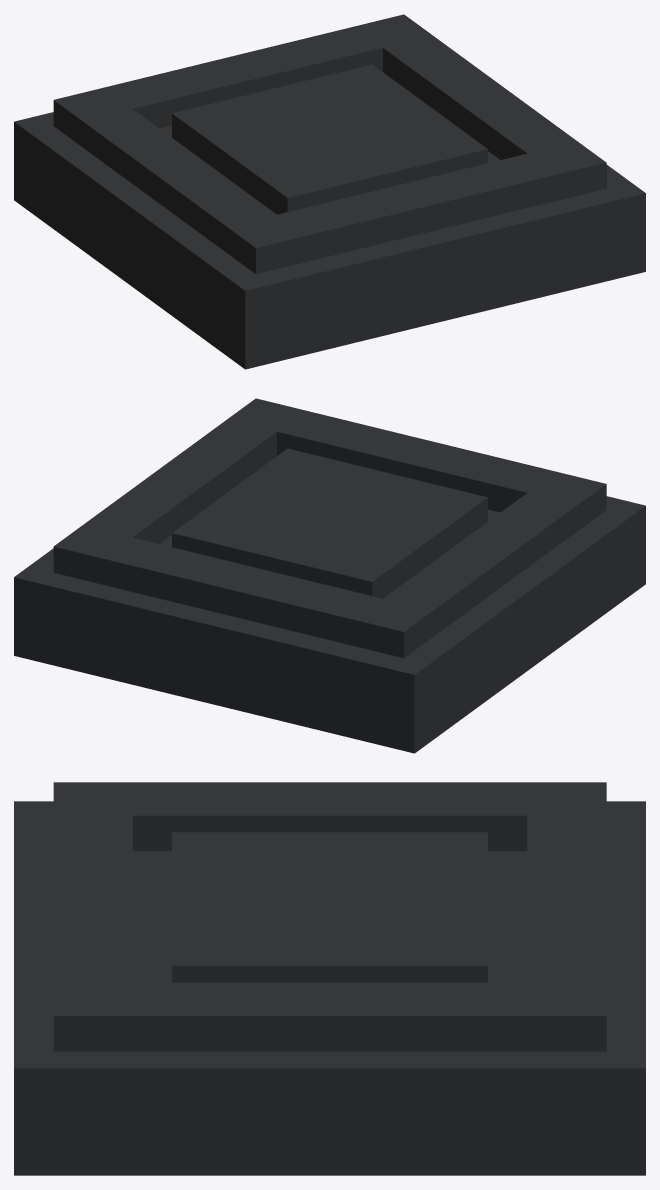
The model's file is man-v1-black.gltf.
3 views of the same model, one above another, from view 1: azimuth 30°, elevation 25°; view 2: azimuth 150°, elevation 25°; view 3: azimuth 270°, elevation 25° (orthographic). The views are drawn at different scales.
Visible parts, largest first — view 1: Untitled; view 2: Untitled; view 3: Untitled.
Boxes of the visible parts, x1,y1,x2,y2 form: Untitled: (14, 14, 645, 369); Untitled: (14, 398, 645, 753); Untitled: (14, 782, 645, 1175).
Bounding box in the file's own units: 1.6 × 0.4 × 1.6.
Materials: 1 (1 with a texture image).
